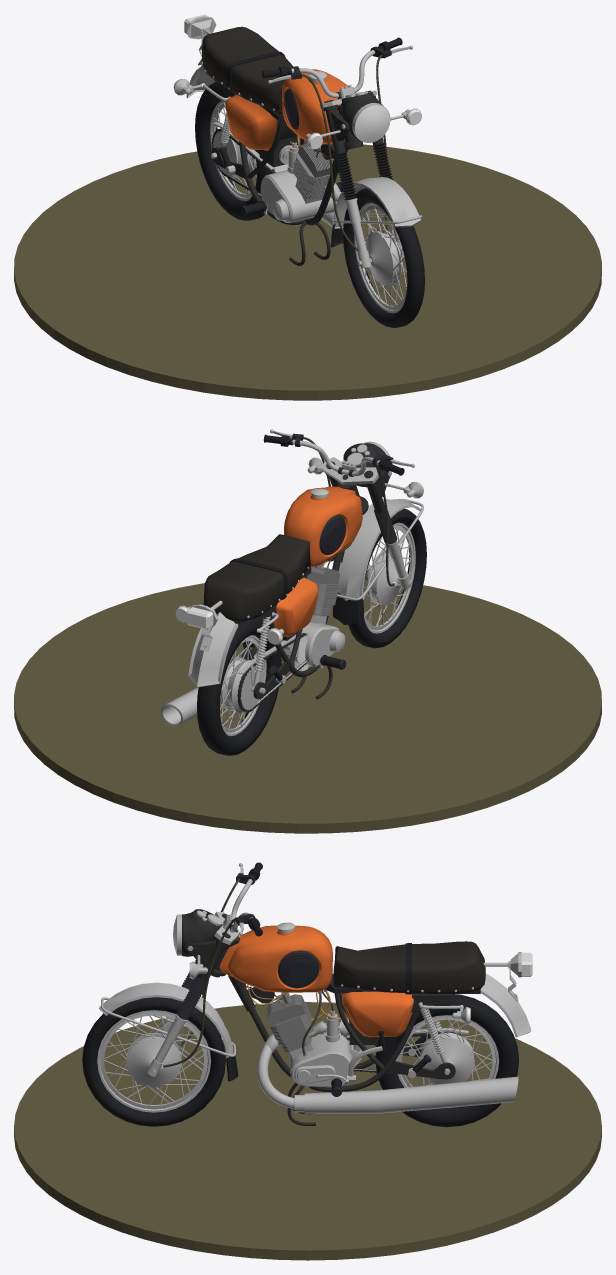
Rendered from Planeta Sport.fbx.
3 renders of one model, top to bottom at view 1: azimuth 30°, elevation 25°; view 2: azimuth 150°, elevation 25°; view 3: azimuth 270°, elevation 25°, orthographic.
Visible parts, largest first — view 1: Circle.003, Cube.002, Wheel front, Wheel front.003, Cube.001, Cube.003, Wheel front.001, Cylinder.030, Circle, Sphere, Cylinder.017, Cylinder.003 (+10 smaller); view 2: Circle.003, Cube.002, Wheel front.003, Cube.001, Wheel front, Wheel front.001, Wheel front.004, Cube.003, Cylinder.030, Circle, Cylinder.072, Cylinder.027 (+5 smaller); view 3: Circle.003, Cube.002, Wheel front, Cylinder.027, Cube.001, Wheel front.003, Cube.003, Cylinder.002, Circle, Wheel front.001, Cylinder.030, Circle.001 (+14 smaller).
Part boxes in pixels (x1,y1,x2,y2): Circle.003: (14,142,601,400); Cube.002: (202,26,293,114); Wheel front: (343,188,424,327); Wheel front.003: (195,82,273,220); Cube.001: (282,69,348,144); Cube.003: (225,94,299,151); Wheel front.001: (333,176,420,228); Cylinder.030: (260,170,336,223); Circle: (366,229,402,285); Sphere: (355,105,390,142); Cylinder.017: (334,142,392,200); Cylinder.003: (345,198,404,268); Circle.003: (14,580,601,833); Cube.002: (203,534,310,621); Wheel front.003: (197,618,281,755); Cube.001: (284,486,362,567); Wheel front: (348,508,426,648); Wheel front.001: (337,499,420,600); Wheel front.004: (188,612,238,687); Cube.003: (273,577,318,636); Cylinder.030: (281,622,339,666); Circle: (367,550,403,605); Cylinder.072: (227,660,263,712); Cylinder.027: (160,653,282,726); Circle.003: (14,1002,601,1260); Cube.002: (333,941,485,993); Wheel front: (82,997,225,1126); Cylinder.027: (293,1076,518,1113); Cube.001: (219,925,332,992); Wheel front.003: (375,994,518,1127); Cube.003: (342,991,413,1037); Cylinder.002: (97,1010,210,1112); Circle: (126,1033,181,1087); Wheel front.001: (99,982,233,1057); Cylinder.030: (290,1030,353,1087); Circle.001: (420,1037,474,1084).
Bounding box in the file's own units: 268 × 122 × 268.
